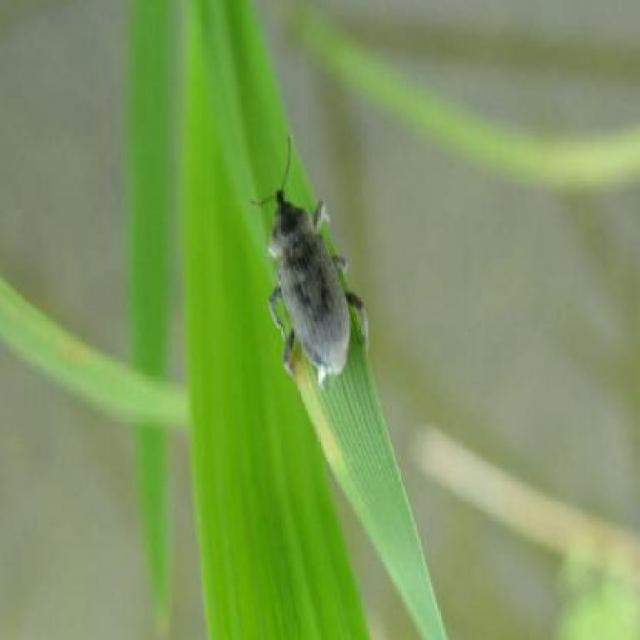rice-bug: (255, 166, 371, 371)
